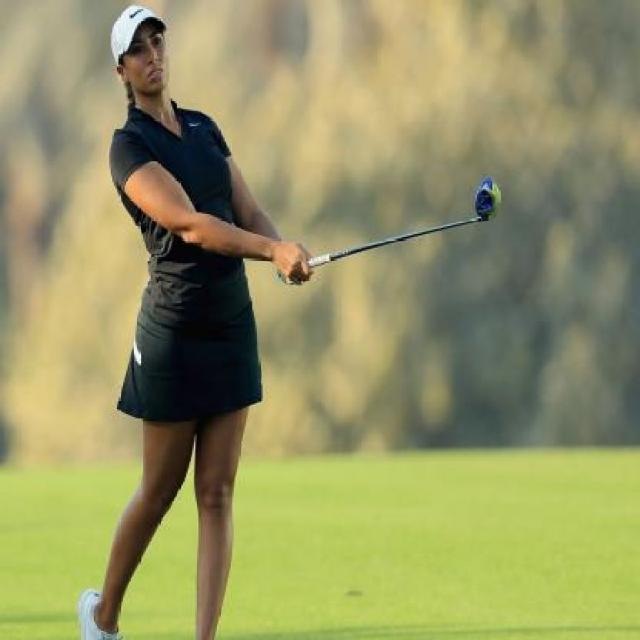club head: (469, 175, 502, 223)
